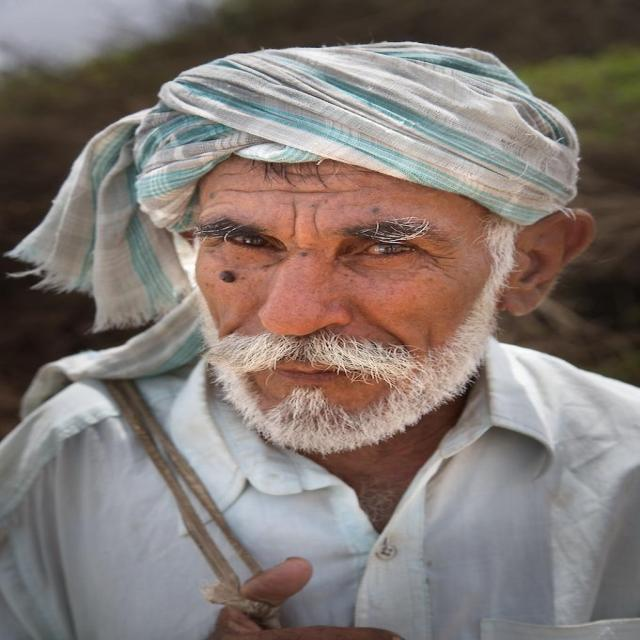no-glass: (203, 230, 433, 268)
